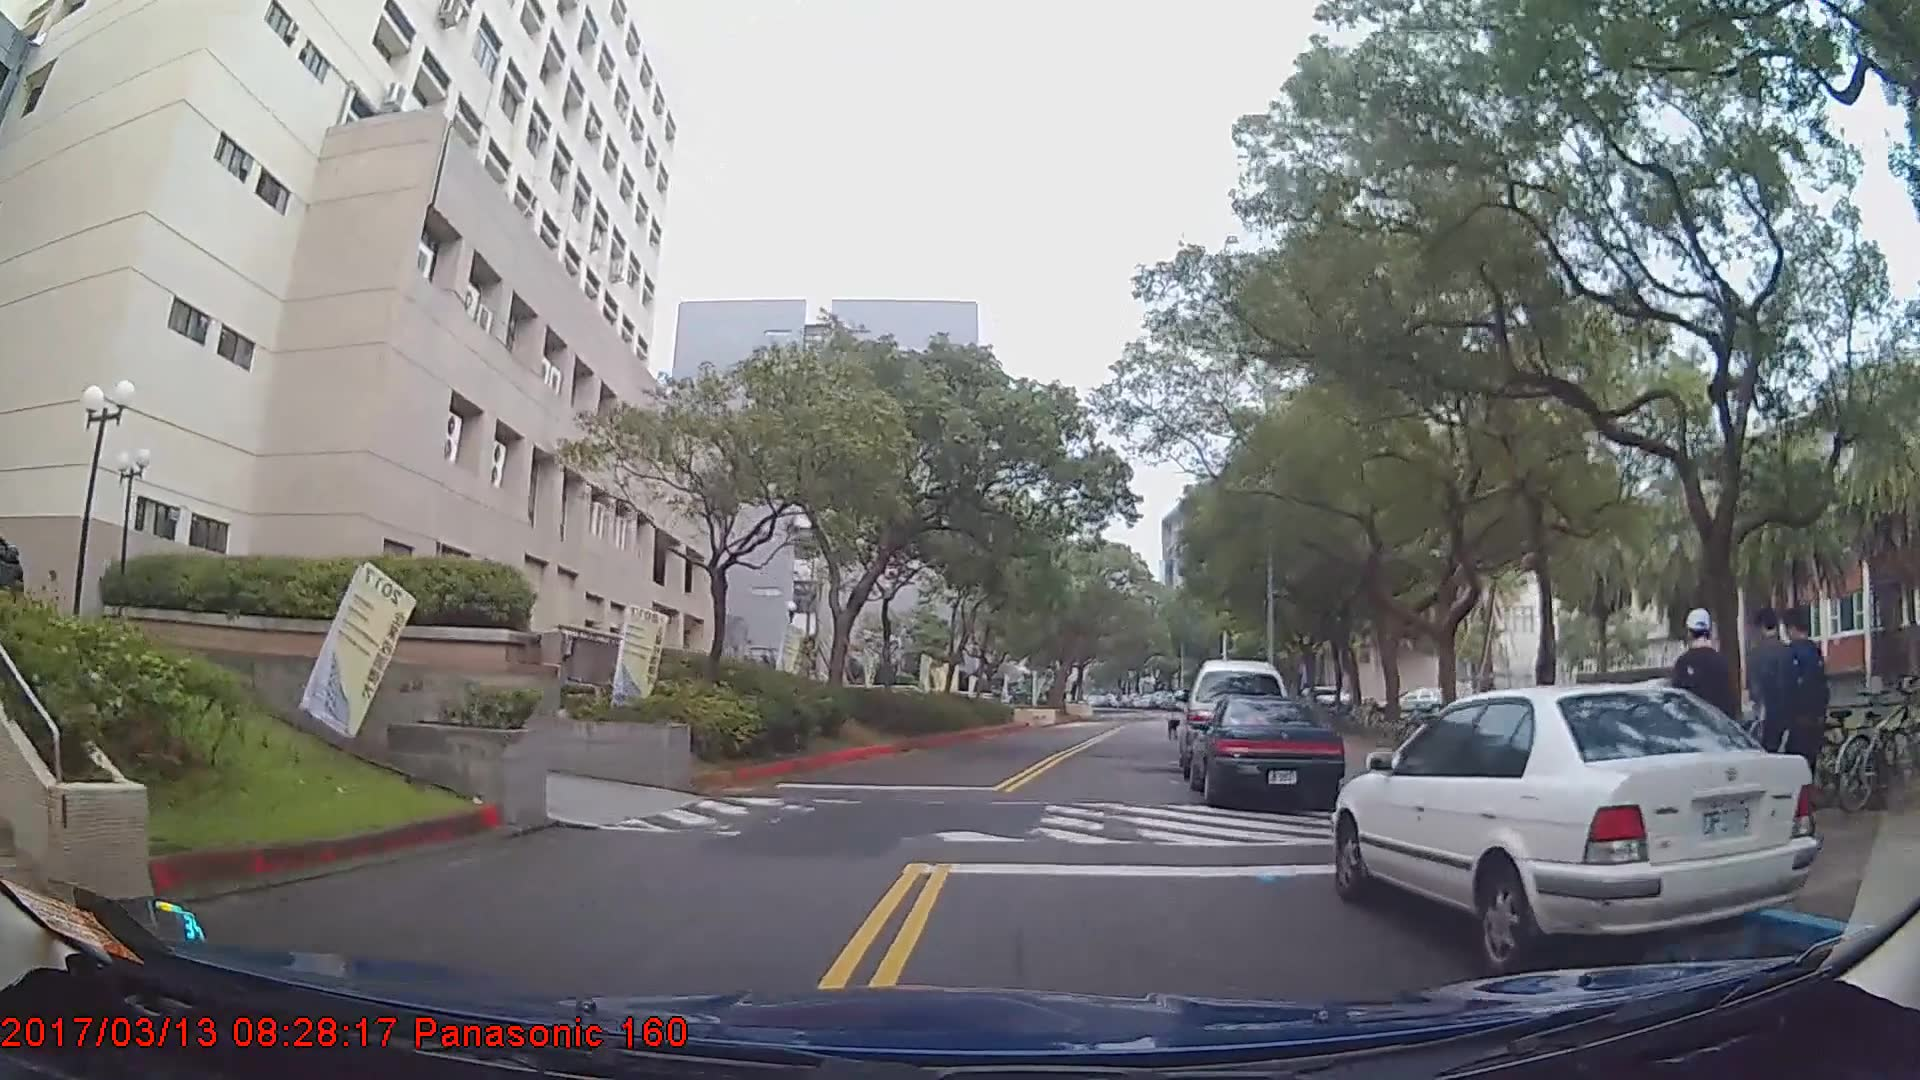pedestrian: (1744, 606, 1820, 830), (1674, 605, 1740, 828)
vehicle: (1332, 676, 1819, 969), (1183, 692, 1347, 805)
